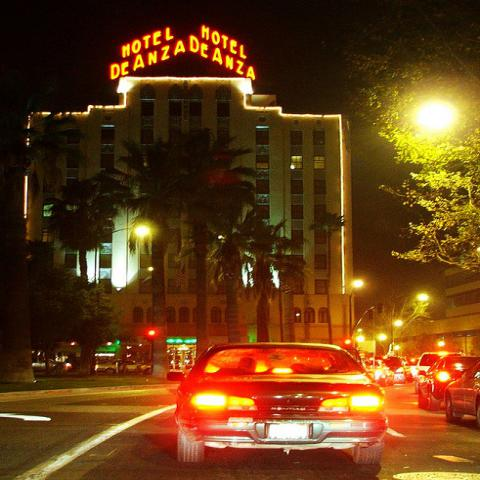car: (173, 344, 390, 464), (416, 353, 479, 411), (442, 356, 479, 427), (415, 352, 454, 379), (95, 358, 146, 373), (34, 356, 72, 372)
